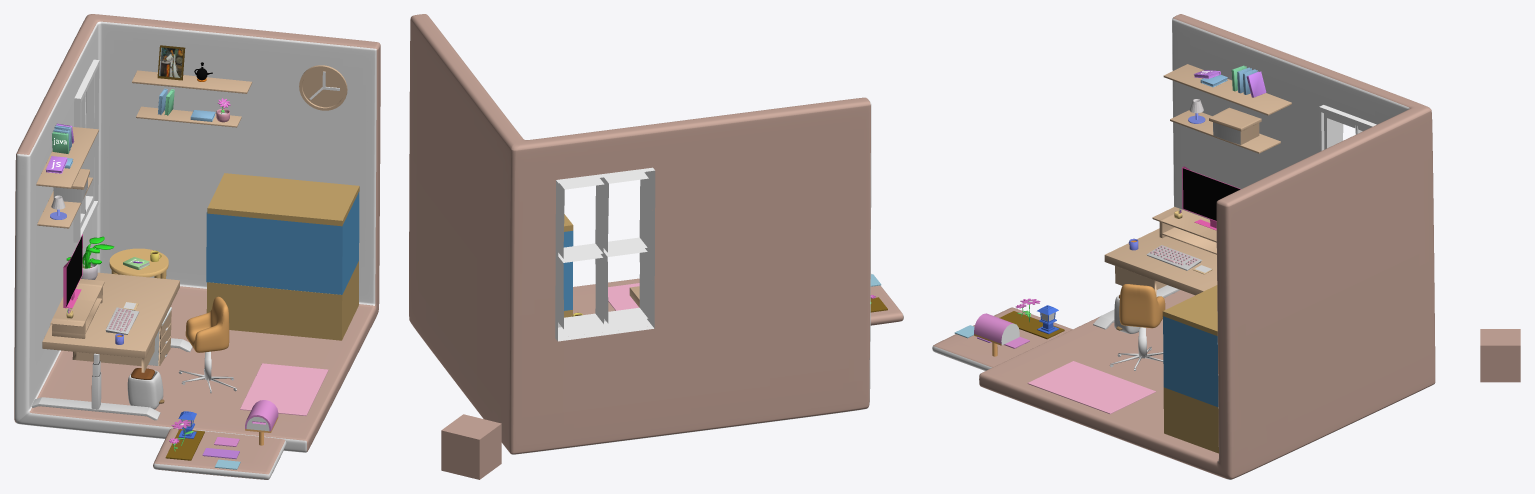
File: Final_Room.glb
The picture shows the model from 3 angles, left to right: view 1: azimuth 30°, elevation 25°; view 2: azimuth 150°, elevation 25°; view 3: azimuth 270°, elevation 25°; orthographic projection. The views are drawn at different scales.
Visible parts, largest first — view 1: Body, Aquarium, Desk, shalve, floor item, Table stuff, floor, Chair, clock, Computer, mailbox, dirt; view 2: Body, Cube, Aquarium, floor, floor item; view 3: Body, Aquarium, shalve, Desk, floor item, Table stuff, floor, Cube, Computer, Chair, mailbox, dirt.
Boxes of the visible parts, x1,y1,x2,y2 form: Body: [14, 14, 380, 452]; Aquarium: [206, 173, 359, 340]; Desk: [31, 248, 192, 420]; shalve: [36, 45, 252, 228]; floor item: [127, 307, 328, 415]; Table stuff: [50, 236, 161, 344]; floor: [153, 428, 286, 479]; Chair: [185, 296, 229, 352]; clock: [299, 65, 347, 110]; Computer: [63, 234, 82, 308]; mailbox: [245, 400, 278, 445]; dirt: [165, 429, 204, 460]; Body: [409, 14, 871, 454]; Cube: [441, 414, 501, 479]; Aquarium: [563, 214, 573, 317]; floor: [870, 274, 903, 325]; floor item: [608, 283, 639, 310]; Body: [979, 14, 1435, 479]; Aquarium: [1162, 285, 1218, 453]; shalve: [1163, 64, 1291, 153]; Desk: [1093, 228, 1217, 329]; floor item: [1027, 294, 1163, 414]; Table stuff: [1128, 206, 1216, 274]; floor: [932, 307, 1072, 370]; Cube: [1480, 329, 1520, 382]; Computer: [1182, 166, 1240, 230]; Chair: [1119, 284, 1165, 328]; mailbox: [974, 313, 1019, 356]; dirt: [999, 311, 1064, 339].
Bounding box in the file's own units: 22.63 × 15.51 × 29.32.
Materials: 64 (1 with a texture image).
